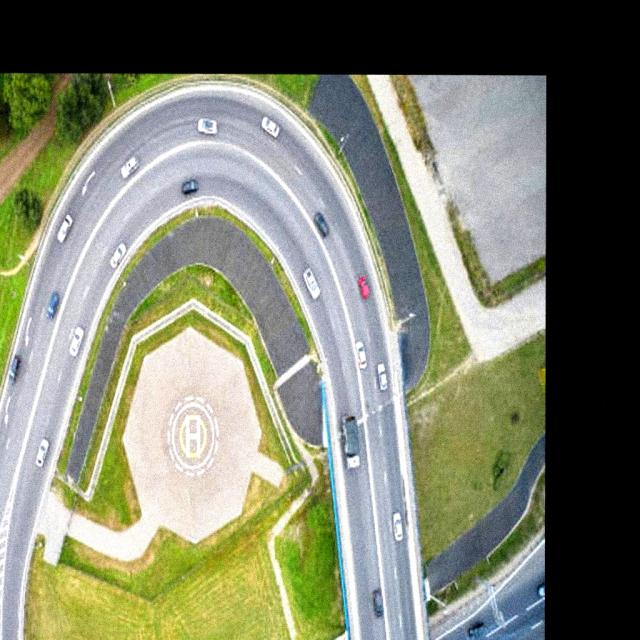helipad: (169, 400, 214, 470)
